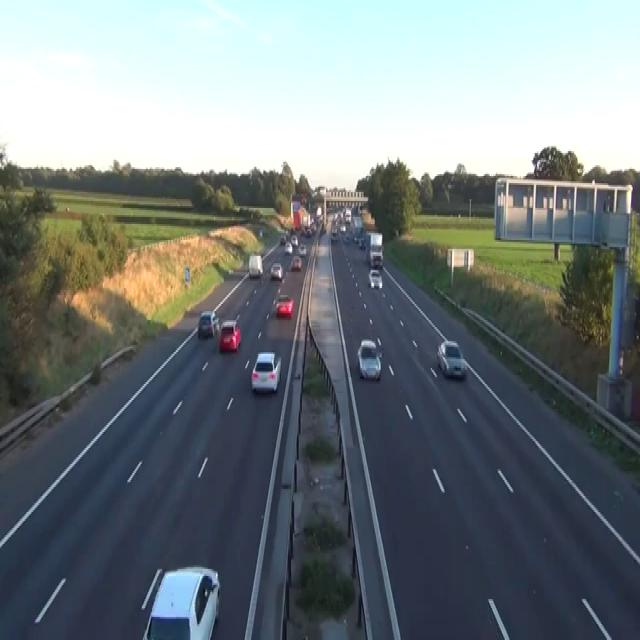Car: (141, 566, 220, 638), (250, 350, 281, 393), (436, 339, 466, 378), (357, 338, 381, 380), (218, 318, 241, 352), (197, 309, 219, 338), (275, 294, 293, 316), (369, 247, 383, 269), (368, 268, 382, 288), (270, 261, 283, 279), (290, 254, 302, 270), (353, 228, 363, 244), (358, 236, 366, 249), (298, 244, 306, 256), (284, 242, 292, 254), (330, 228, 338, 240), (290, 235, 298, 245), (304, 226, 311, 236), (344, 233, 351, 243), (279, 234, 285, 243), (340, 224, 346, 233), (259, 228, 262, 236)
Truck: (365, 231, 383, 267), (248, 255, 263, 278), (291, 199, 301, 229)
